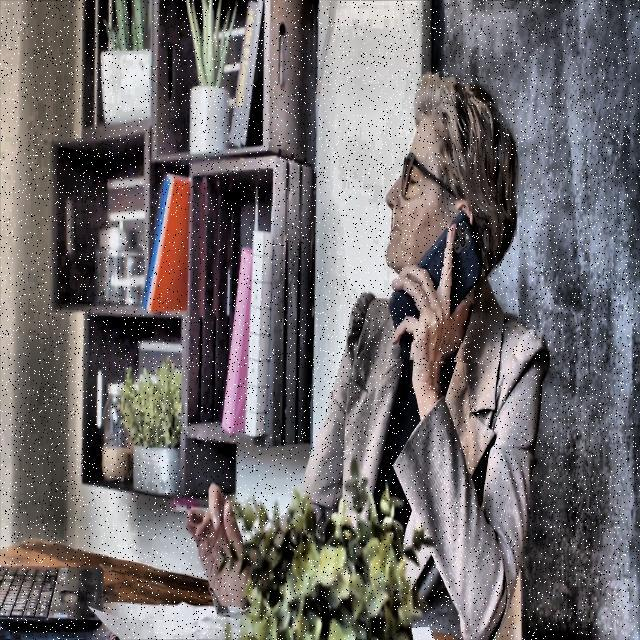Phone: (388, 208, 484, 362)
